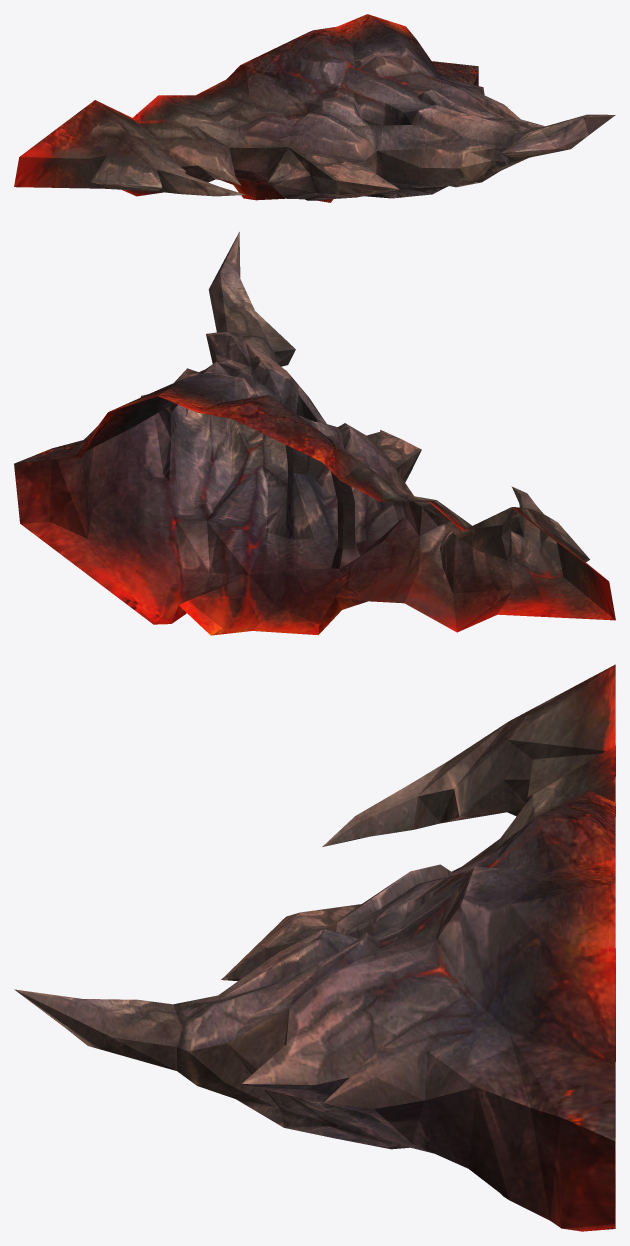
The model's file is huodong_fuben_653_shitou_04.obj.
The picture shows the model from 3 angles, top to bottom: view 1: azimuth 30°, elevation 25°; view 2: azimuth 150°, elevation 25°; view 3: azimuth 270°, elevation 25°; orthographic projection. The views are drawn at different scales.
Visible parts, largest first — view 1: huodong_fuben_653_shitou_04; view 2: huodong_fuben_653_shitou_04; view 3: huodong_fuben_653_shitou_04.
Part boxes in pixels (left/top/right/bottom): huodong_fuben_653_shitou_04: left=14, top=14, right=615, bottom=202; huodong_fuben_653_shitou_04: left=14, top=232, right=615, bottom=635; huodong_fuben_653_shitou_04: left=14, top=664, right=615, bottom=1231.
Bounding box in the file's own units: 436 × 162 × 254.
1 material, 1 textured.
